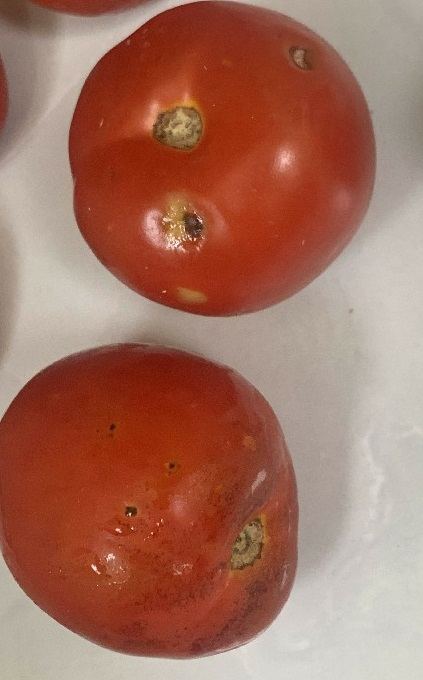NG: (53, 3, 389, 326), (0, 335, 314, 669)
